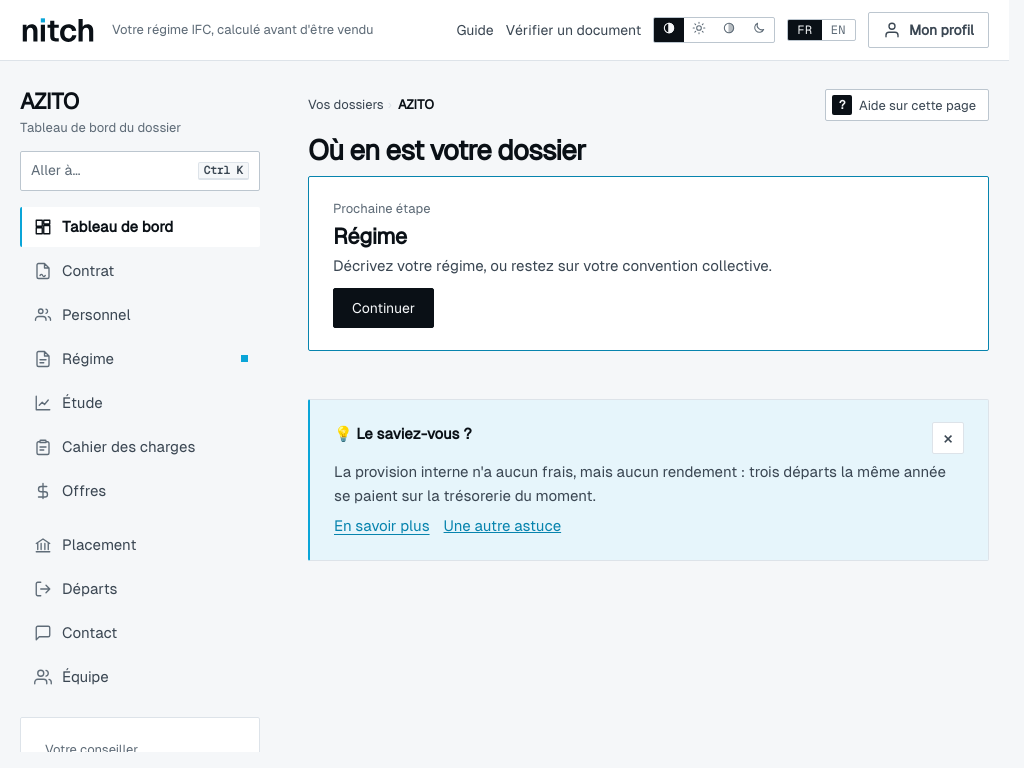
l'espace profil › s'ouvre depuis le bouton en haut à droite, et dit qui je suis
This screenshot has width=1024, height=768.
Click the link "Mon profil".
click(929, 30)  # box [868,12,989,48]
(page scrolled)
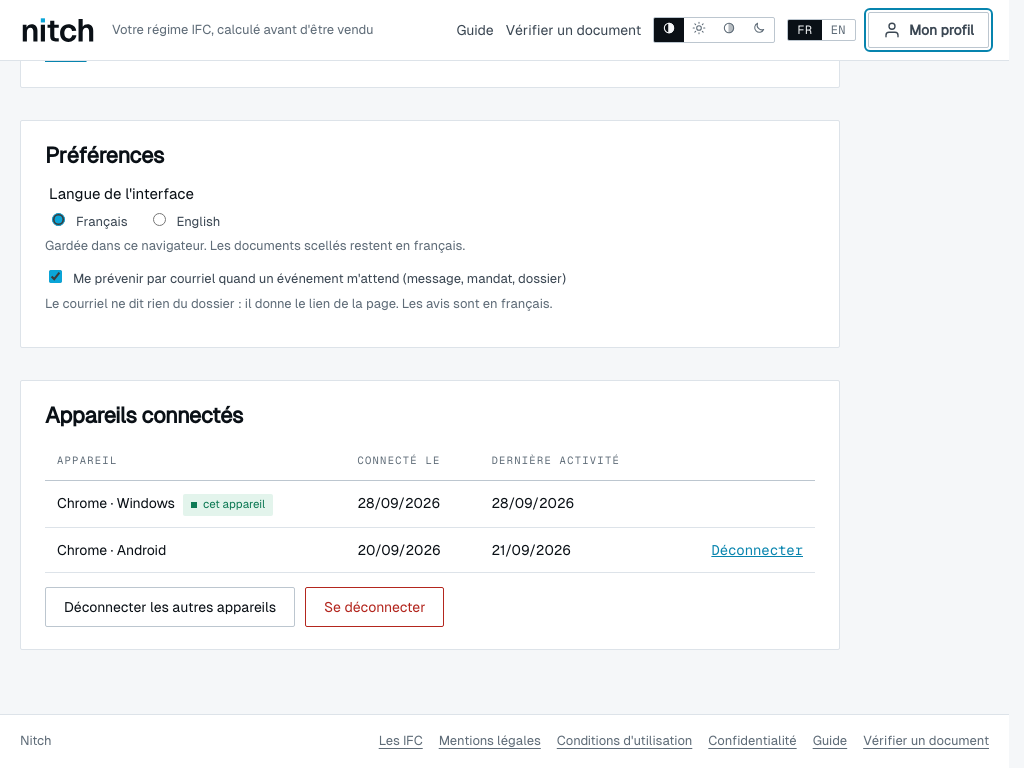
Expected: the text "Chrome · Android" is shown, [45,527,345,572]
